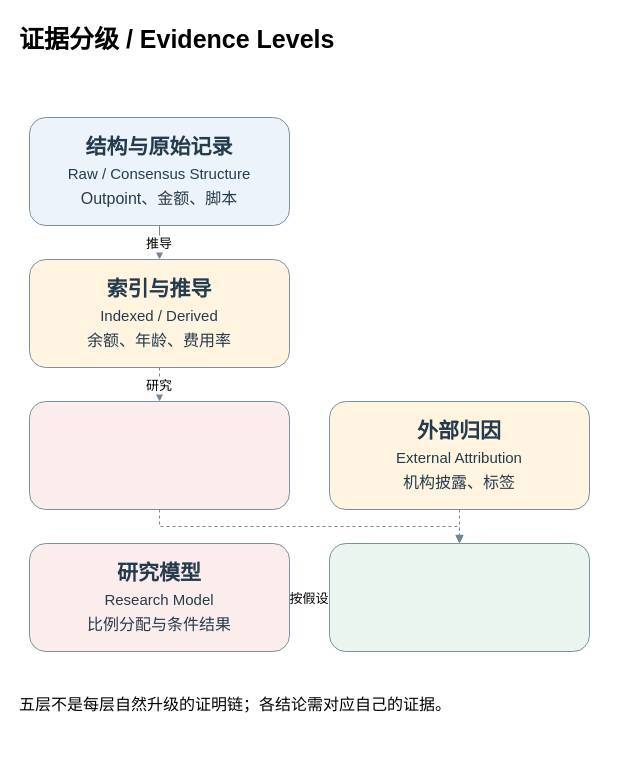
This 618x775 diagram has some shape labels left out. The shapes that lost their labels are listed below. From the top down, each one's box as (x1, y1, x2, y2) in pixels, then its label:
(28, 400, 290, 510): 启发式 Heuristic 找零、聚类
(328, 542, 590, 652): 可复查报告 Reviewable Findings 逐项说明来源与缺口
